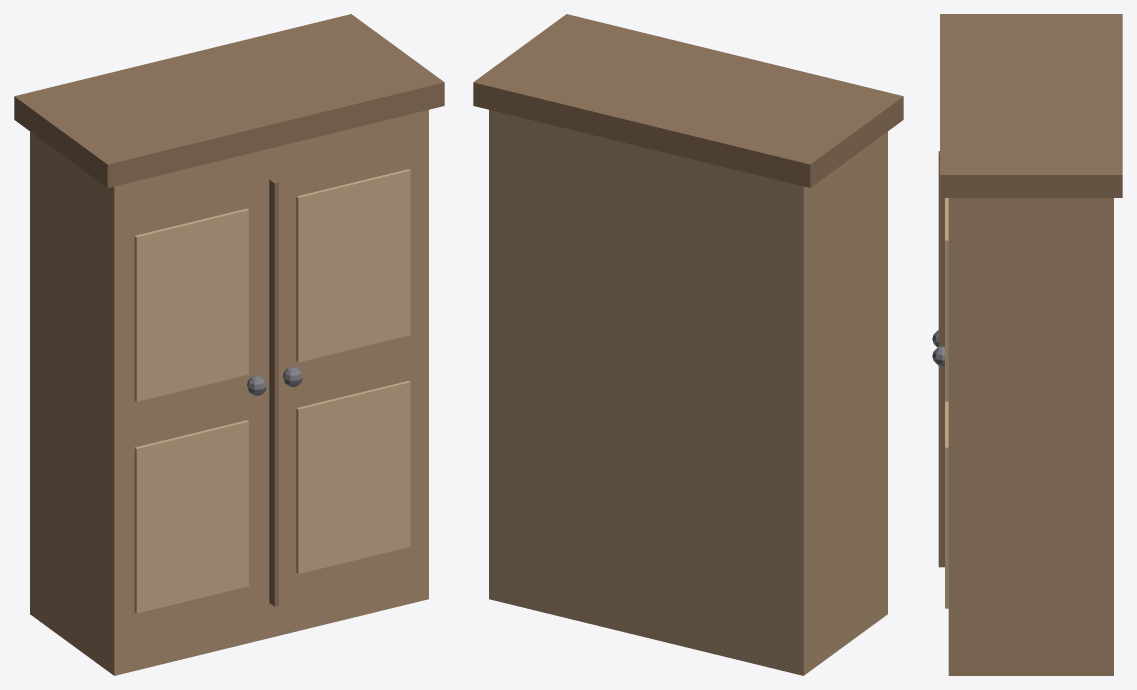
Rendered from wardrobe.glb.
3 renders of one model, left to right at view 1: azimuth 30°, elevation 25°; view 2: azimuth 150°, elevation 25°; view 3: azimuth 270°, elevation 25°, orthographic. The views are drawn at different scales.
Parts seen in each view (by area): view 1: wardrobe; view 2: wardrobe; view 3: wardrobe.
Part boxes in pixels (x1=…): wardrobe: x1=14, y1=14, x2=444, y2=675; wardrobe: x1=473, y1=14, x2=903, y2=675; wardrobe: x1=932, y1=14, x2=1122, y2=675.
Bounding box in the file's own units: 1.5 × 2.2 × 0.7499.
